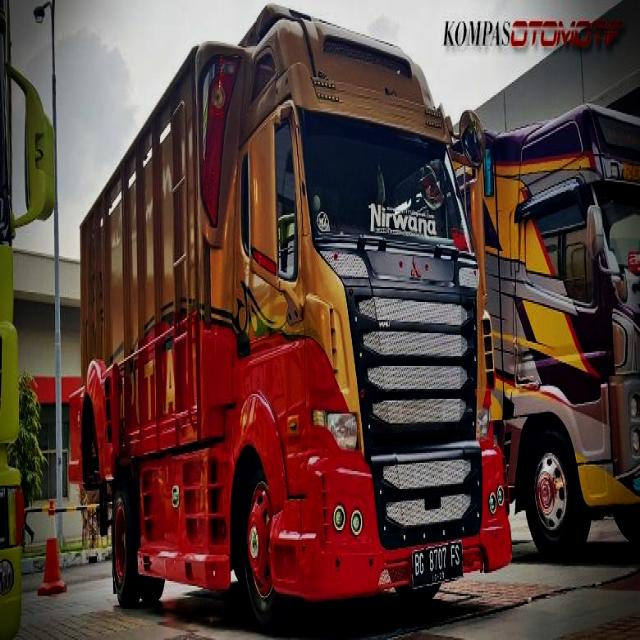truck: (78, 1, 507, 620)
